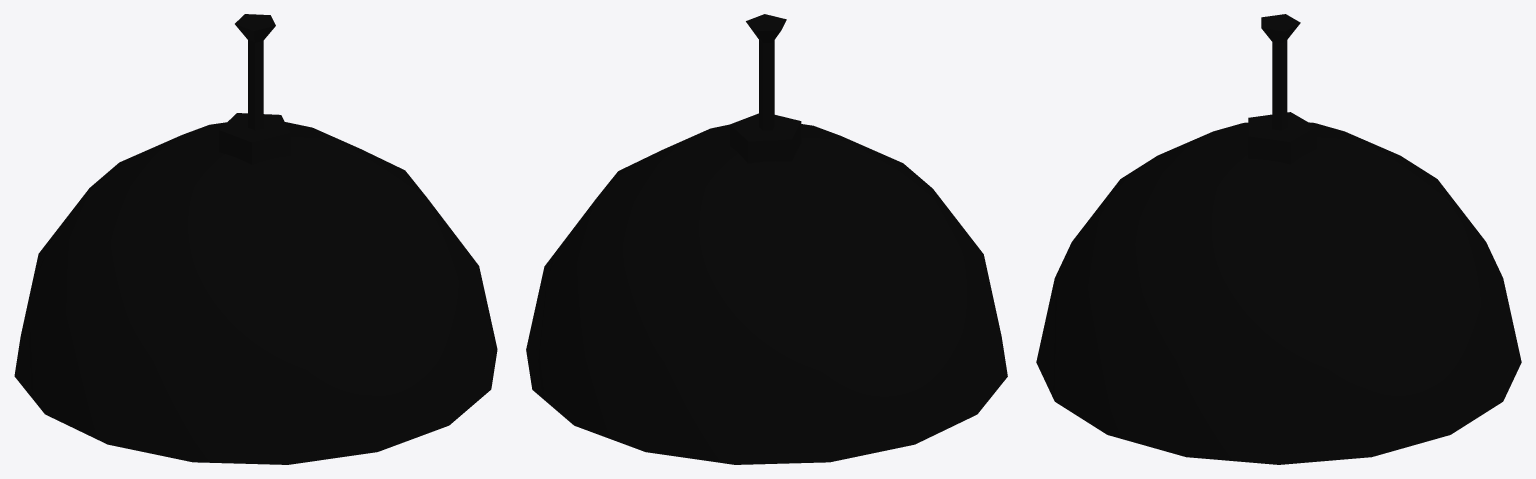
The model's file is RoundCeilingLight_On.glb.
The picture shows the model from 3 angles, left to right: view 1: azimuth 30°, elevation 25°; view 2: azimuth 150°, elevation 25°; view 3: azimuth 270°, elevation 25°; orthographic projection.
Parts seen in each view (by area): view 1: roundCeilingLight_on; view 2: roundCeilingLight_on; view 3: roundCeilingLight_on.
Part boxes in pixels (x1=…): roundCeilingLight_on: x1=14, y1=14, x2=497, y2=464; roundCeilingLight_on: x1=526, y1=14, x2=1007, y2=464; roundCeilingLight_on: x1=1036, y1=14, x2=1521, y2=464.
Bounding box in the file's own units: 0.9586 × 0.7399 × 0.9586.
Materials: 1 (1 with a texture image).
